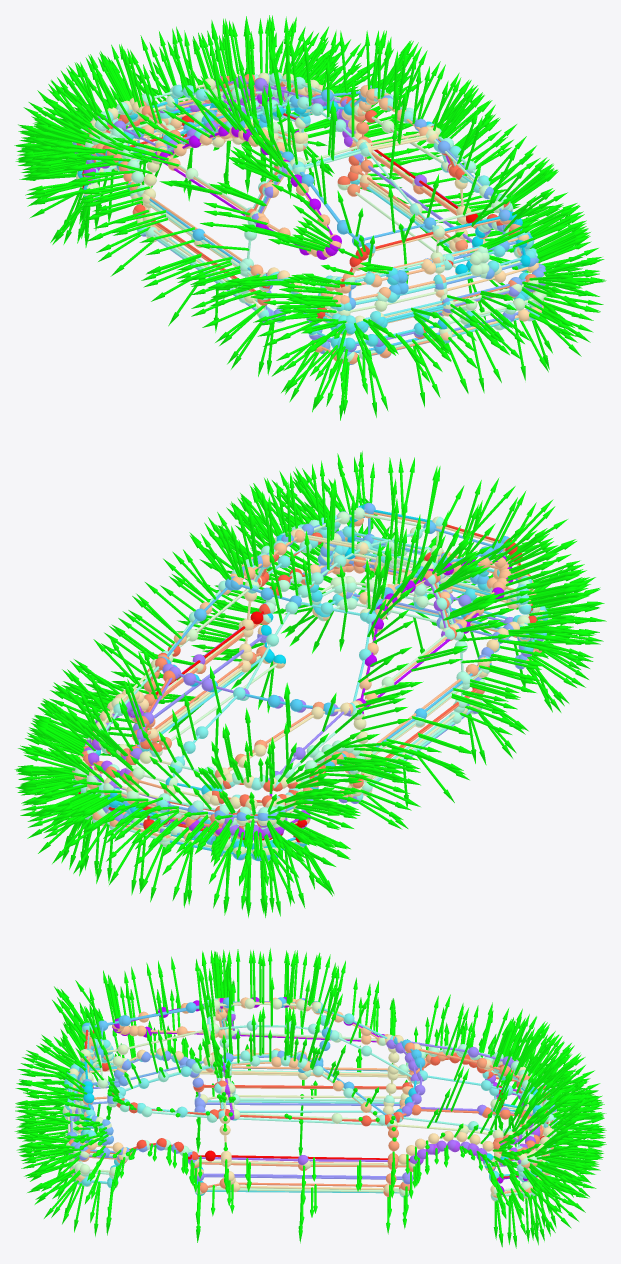
File: robbins_car2.gltf
The picture shows the model from 3 angles, top to bottom: view 1: azimuth 30°, elevation 25°; view 2: azimuth 150°, elevation 25°; view 3: azimuth 270°, elevation 25°; orthographic projection. The views are drawn at different scales.
Bounding box in the file's own units: 0.592 × 0.4579 × 1.08.
